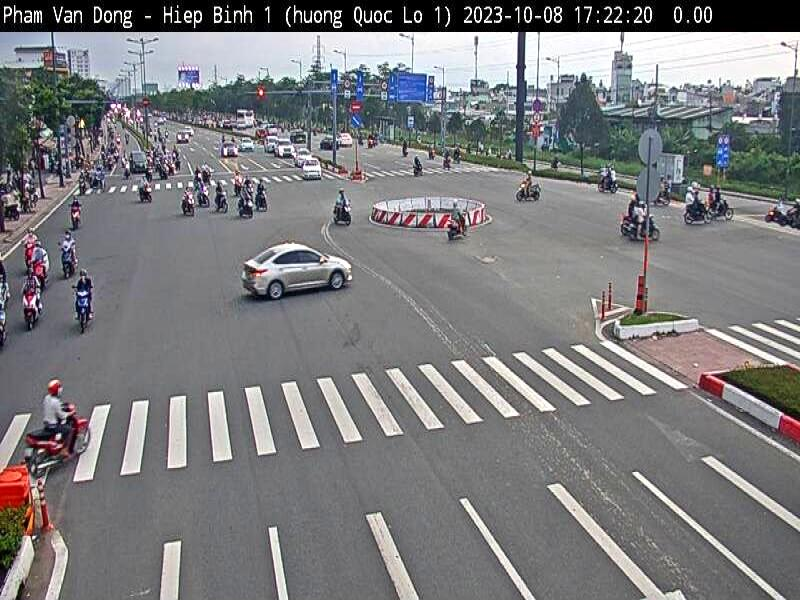car: (240, 242, 354, 301), (272, 137, 295, 159), (303, 158, 323, 180), (130, 150, 148, 174), (336, 133, 354, 148)
motorcycle: (71, 284, 95, 334), (22, 285, 40, 330), (58, 241, 76, 280)
